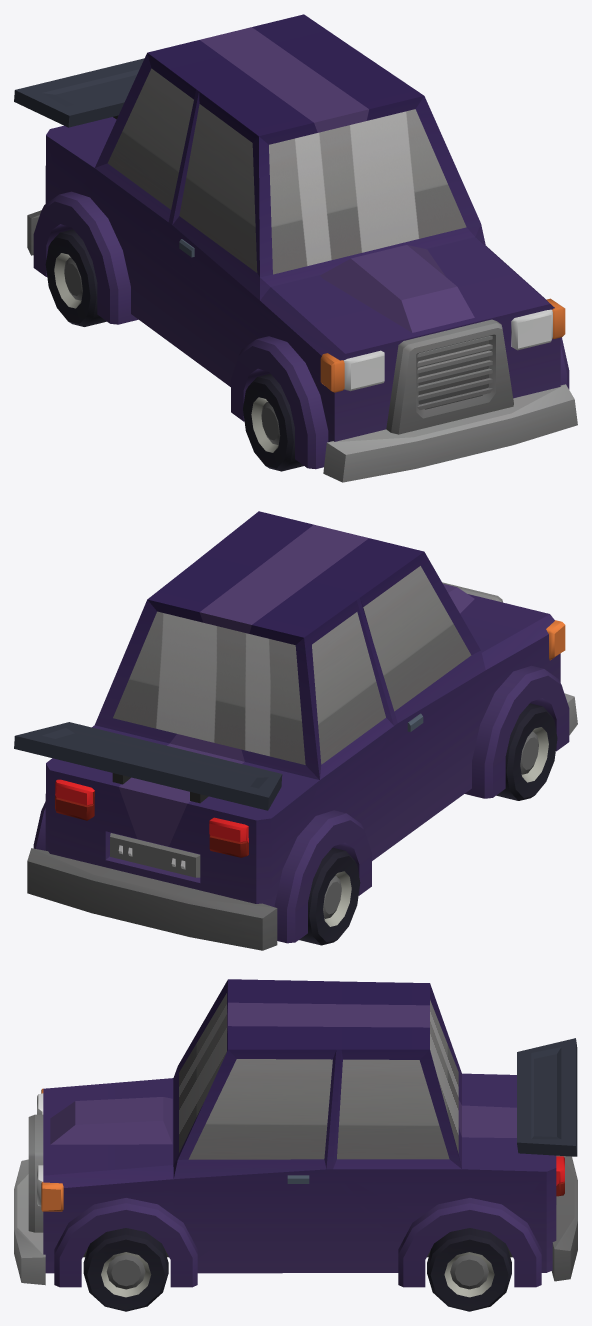
The model's file is SportCar_11.fbx.
3 renders of one model, top to bottom at view 1: azimuth 30°, elevation 25°; view 2: azimuth 150°, elevation 25°; view 3: azimuth 270°, elevation 25°, orthographic. The views are drawn at different scales.
Parts seen in each view (by area): view 1: SportCar_11, Wheel_fr, Wheel_br; view 2: SportCar_11, Wheel_br, Wheel_fr; view 3: SportCar_11, Wheel_fl, Wheel_bl.
Boxes of the visible parts, x1,y1,x2,y2 form: SportCar_11: [14, 14, 577, 482]; Wheel_fr: [243, 373, 303, 471]; Wheel_br: [45, 229, 106, 326]; SportCar_11: [14, 511, 577, 950]; Wheel_br: [299, 847, 360, 945]; Wheel_fr: [496, 703, 557, 800]; SportCar_11: [14, 979, 577, 1287]; Wheel_fl: [83, 1228, 168, 1311]; Wheel_bl: [427, 1228, 511, 1311].
Size of the model in its own units: 112 by 110 by 233.
